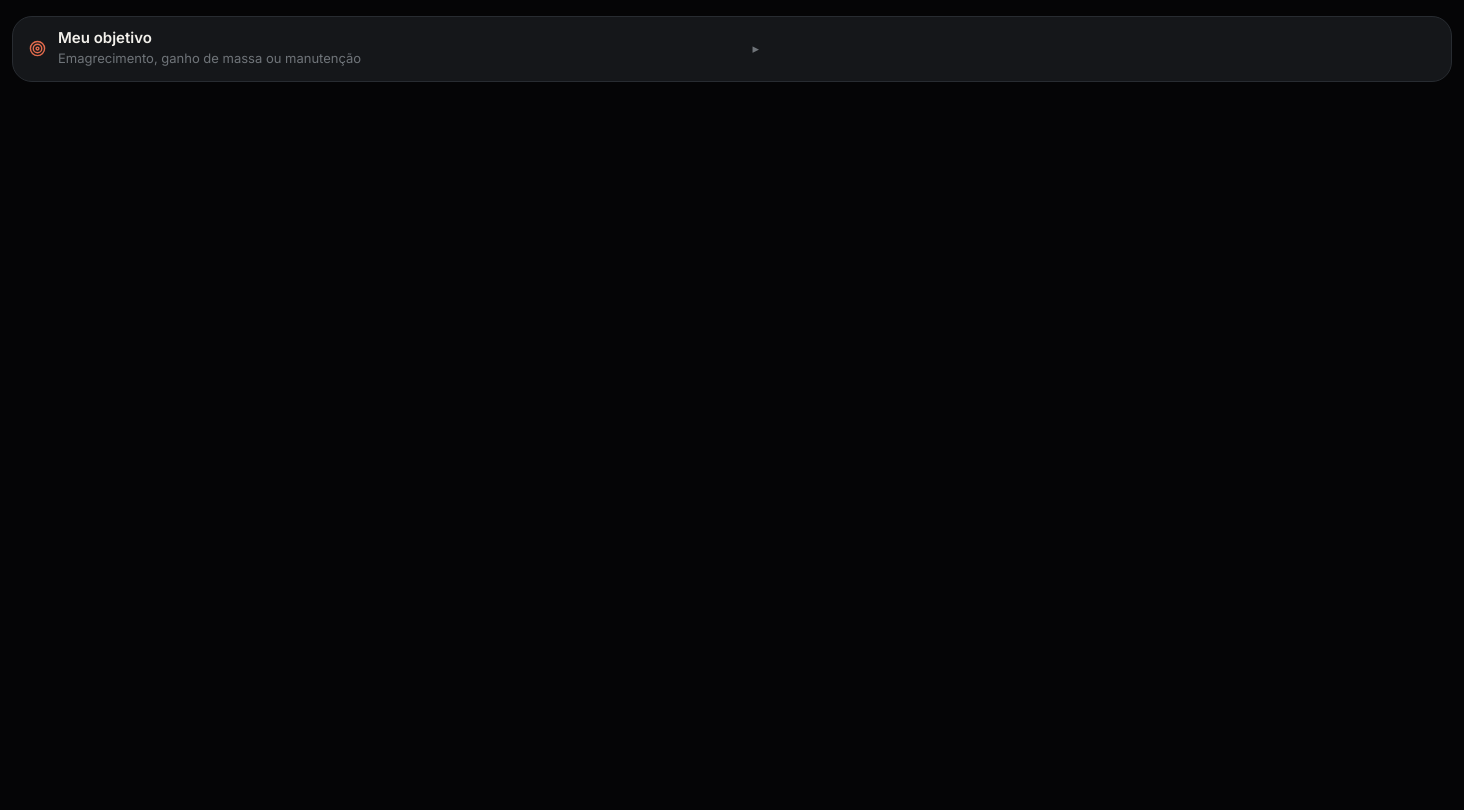
Test: abrir busca o catalogo e lista os objetivos
The image size is (1464, 810).
Click the button with test id "abrir-objetivo" at x=105, y=38, box [13,17,1451,80]
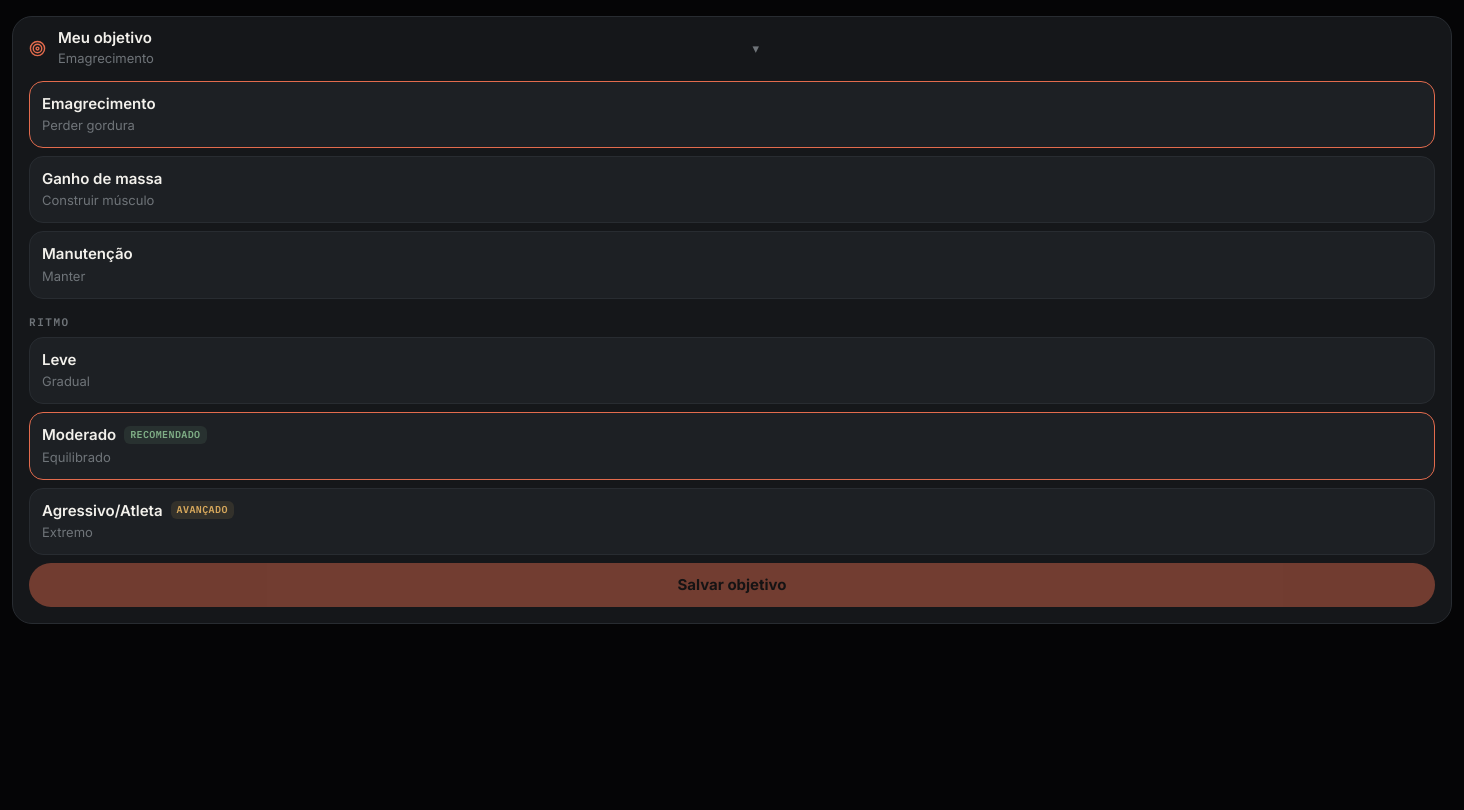
Expected: the button with test id "objetivo-muscle_gain" is shown, [29,156,1435,223]
